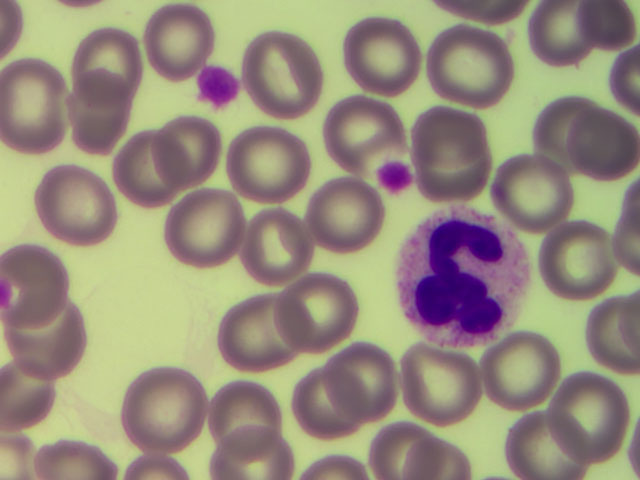Platelets: (199, 65, 243, 106), (377, 161, 418, 196)
RBC: (1, 64, 78, 152), (71, 29, 149, 101), (137, 5, 215, 77), (68, 81, 146, 153), (39, 168, 117, 240), (115, 131, 193, 203), (152, 112, 230, 184), (163, 190, 241, 262), (233, 130, 311, 202), (246, 40, 324, 112), (325, 94, 403, 166), (345, 16, 423, 88), (426, 29, 504, 101), (409, 92, 487, 164), (416, 139, 494, 211), (488, 151, 566, 223), (528, 99, 606, 171), (562, 115, 640, 187), (536, 215, 614, 287), (484, 336, 562, 408), (399, 349, 477, 421), (327, 336, 405, 408), (288, 372, 366, 444), (211, 295, 289, 367), (280, 274, 358, 346), (246, 211, 324, 283), (307, 178, 385, 250), (307, 182, 385, 254), (133, 370, 211, 442), (11, 305, 89, 377), (212, 373, 290, 445), (371, 408, 449, 480), (499, 408, 577, 480), (552, 377, 630, 449), (1, 246, 78, 318), (529, 1, 601, 65), (1, 356, 59, 431)
WBC: (393, 212, 529, 347)
